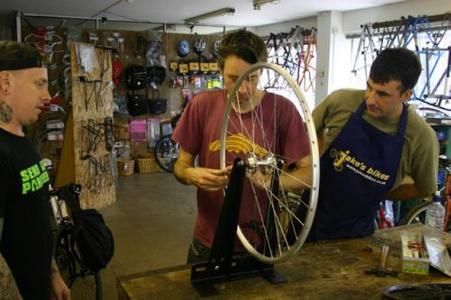person: (168, 27, 314, 268)
